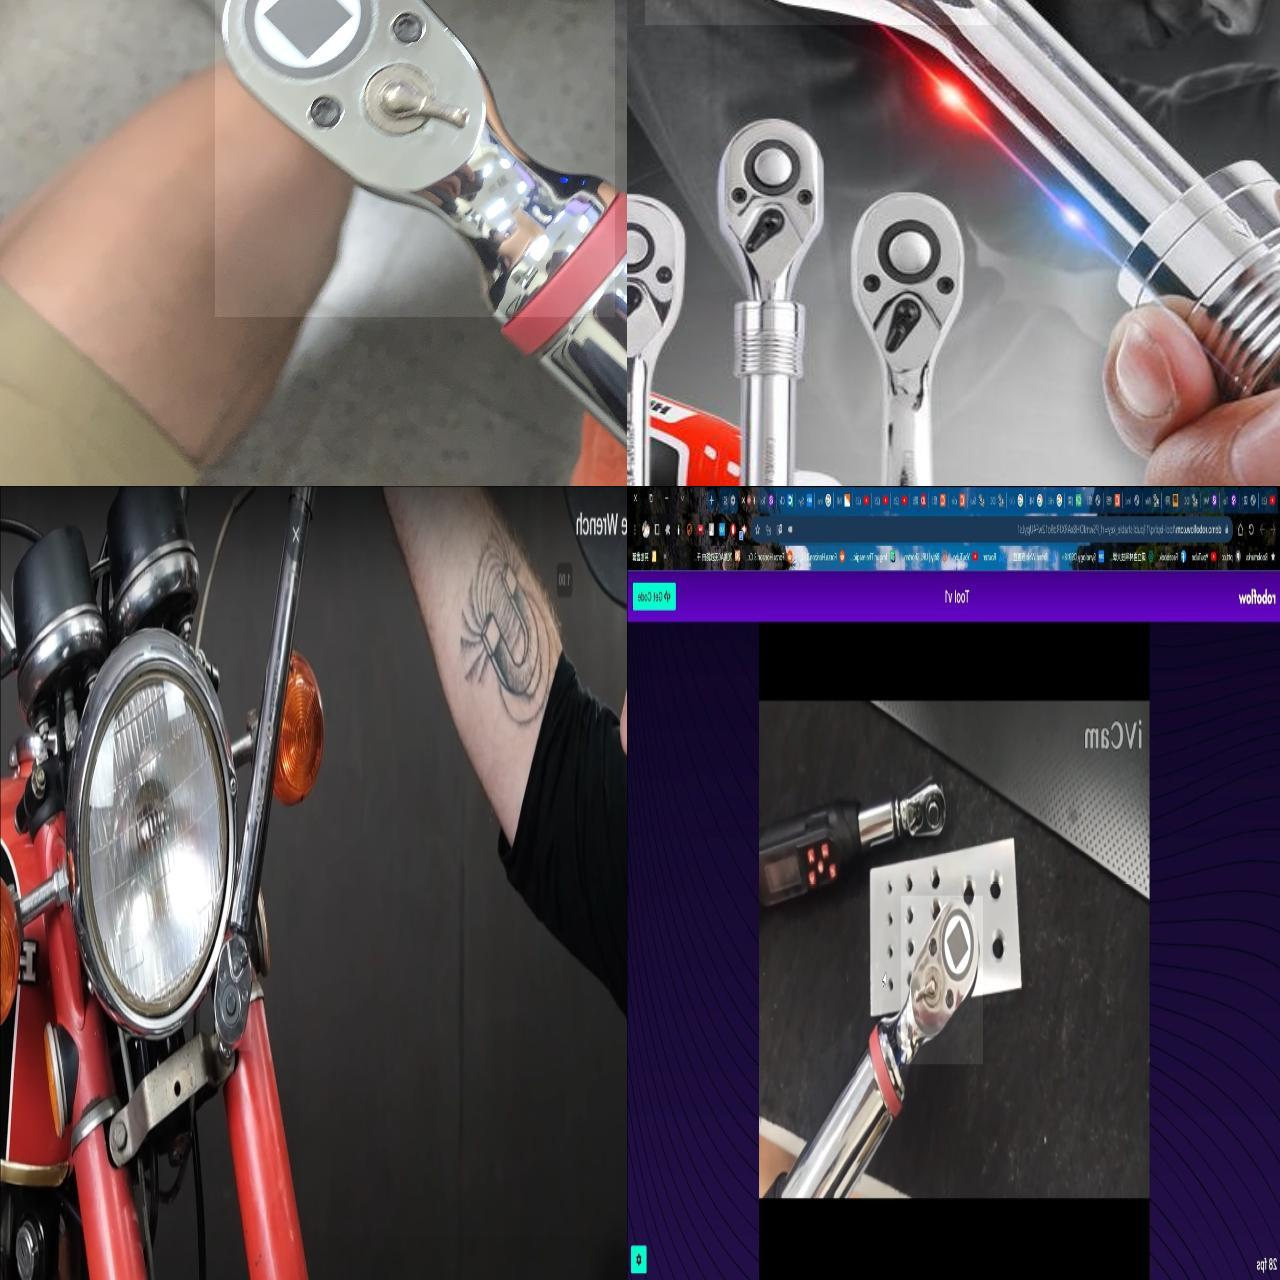Tool: (215, 0, 614, 316), (847, 191, 966, 407), (719, 117, 826, 300), (900, 896, 982, 1063), (627, 196, 682, 369), (215, 935, 250, 1050), (901, 774, 947, 840)
